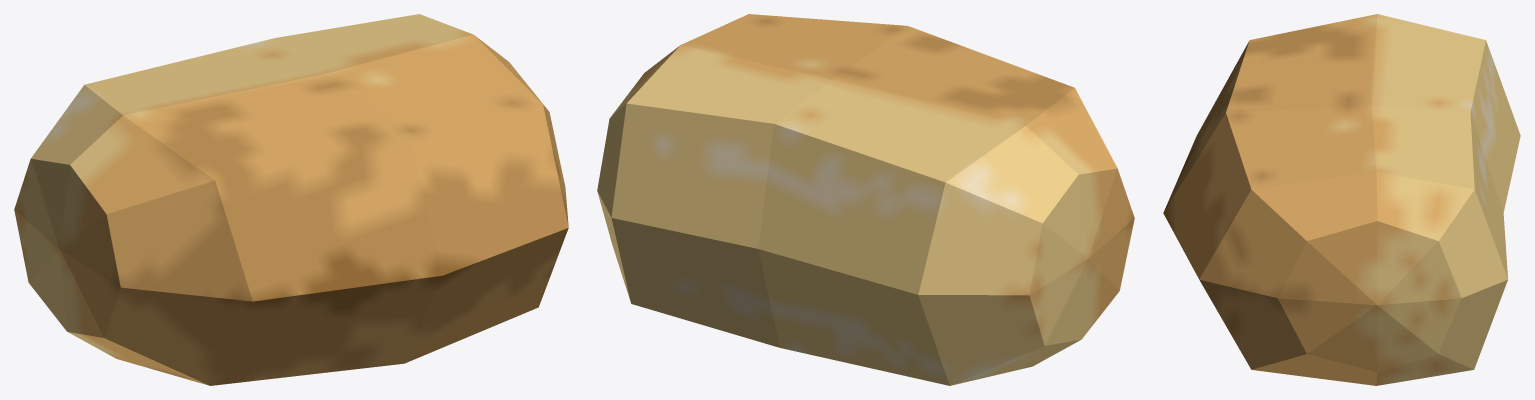
File: SM_Dungeon_Food_Potato.fbx
3 views of the same model, side by side, from view 1: azimuth 30°, elevation 25°; view 2: azimuth 150°, elevation 25°; view 3: azimuth 270°, elevation 25° (orthographic). The views are drawn at different scales.
Parts seen in each view (by area): view 1: SM_Dungeon_Food_Potato; view 2: SM_Dungeon_Food_Potato; view 3: SM_Dungeon_Food_Potato.
Boxes of the visible parts, left/top/right/bottom form: SM_Dungeon_Food_Potato: left=14, top=14, right=568, bottom=385; SM_Dungeon_Food_Potato: left=597, top=14, right=1134, bottom=385; SM_Dungeon_Food_Potato: left=1163, top=14, right=1520, bottom=385.
Bounding box in the file's own units: 28.65 × 14.38 × 21.13.
